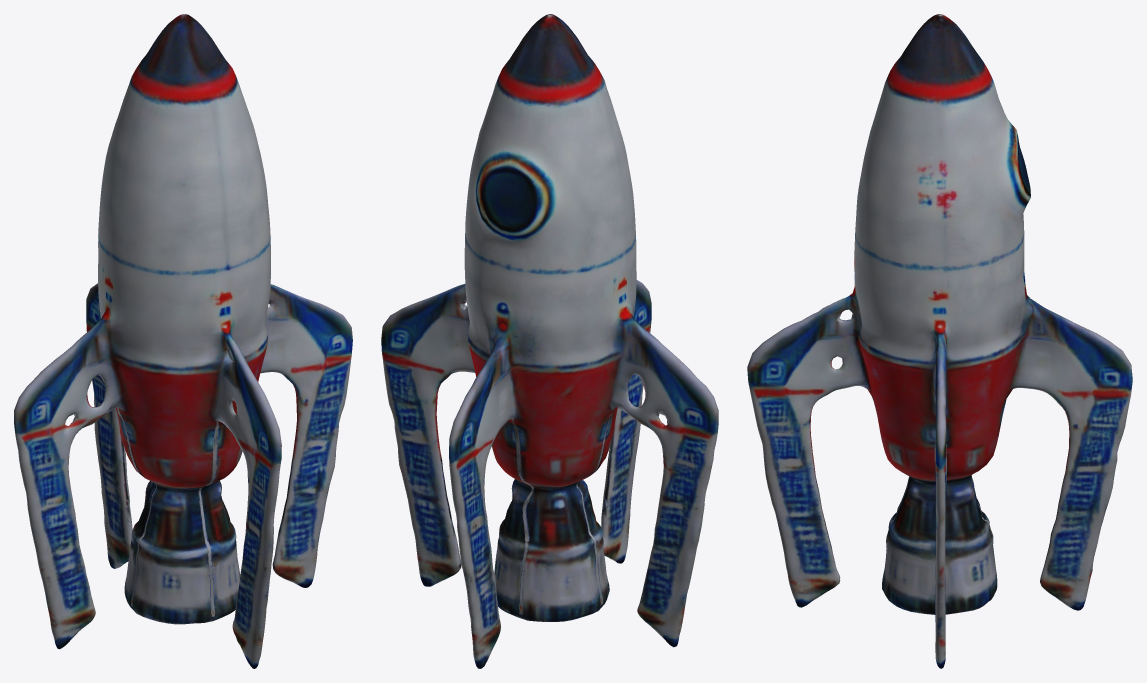
Rendered from toy_rocket_free_standard.glb.
3 renders of one model, left to right at view 1: azimuth 30°, elevation 25°; view 2: azimuth 150°, elevation 25°; view 3: azimuth 270°, elevation 25°, orthographic.
Visible parts, largest first — view 1: mesh_base_material_0; view 2: mesh_base_material_0; view 3: mesh_base_material_0.
Boxes of the visible parts, box(x1,y1,x2,y2) form: mesh_base_material_0: box(14, 14, 352, 668); mesh_base_material_0: box(381, 14, 718, 668); mesh_base_material_0: box(747, 14, 1132, 668).
Bounding box in the file's own units: 0.5833 × 0.9971 × 0.5846.
Materials: 1 (1 with a texture image).
